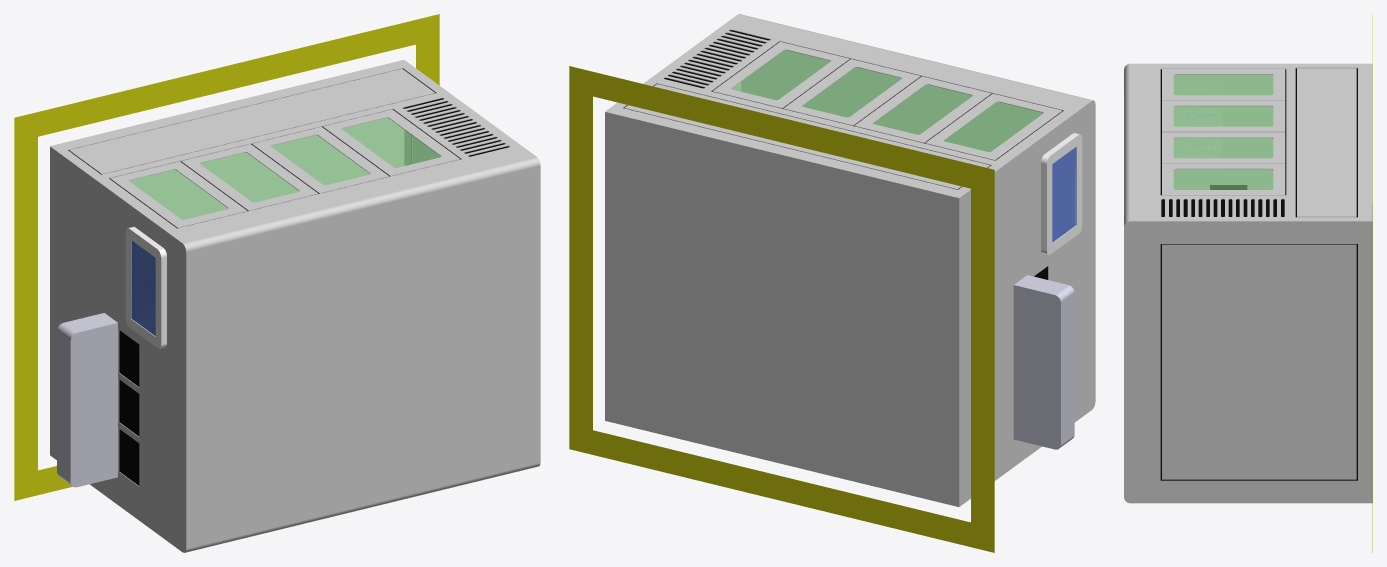
The model's file is device.obj.
3 views of the same model, side by side, from view 1: azimuth 30°, elevation 25°; view 2: azimuth 150°, elevation 25°; view 3: azimuth 270°, elevation 25° (orthographic). The views are drawn at different scales.
Visible parts, largest first — view 1: device; view 2: device; view 3: device.
Part boxes in pixels (x1=…): device: x1=14, y1=14, x2=540, y2=552; device: x1=569, y1=14, x2=1095, y2=552; device: x1=1124, y1=14, x2=1372, y2=552.
Size of the model in its own units: 3.7 by 3.1 by 2.
